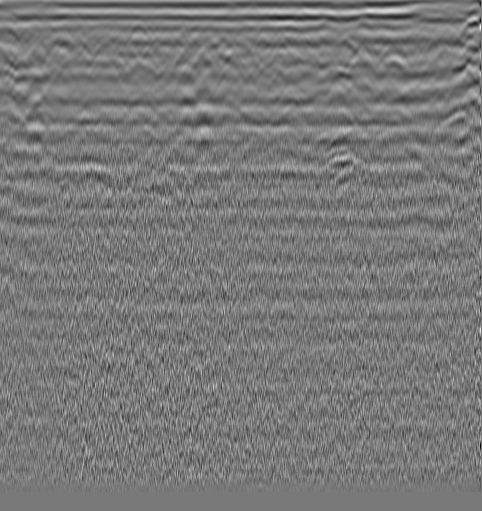가스: (137, 169, 168, 200)
상수: (423, 34, 443, 54)
오수: (47, 37, 67, 57)
우수: (269, 49, 289, 69)
